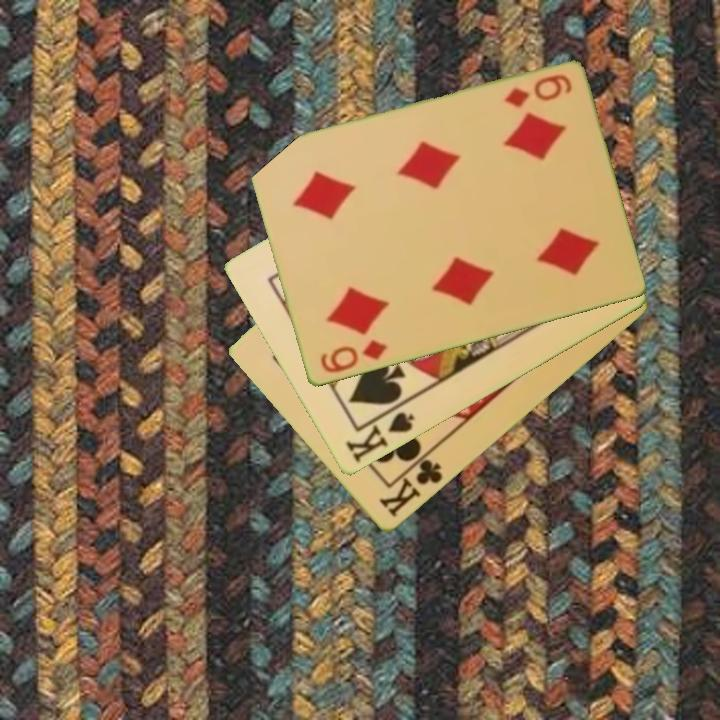6d: (316, 336, 390, 377), (500, 71, 575, 111)
Kc: (375, 448, 446, 521)
Ks: (342, 400, 418, 467)
